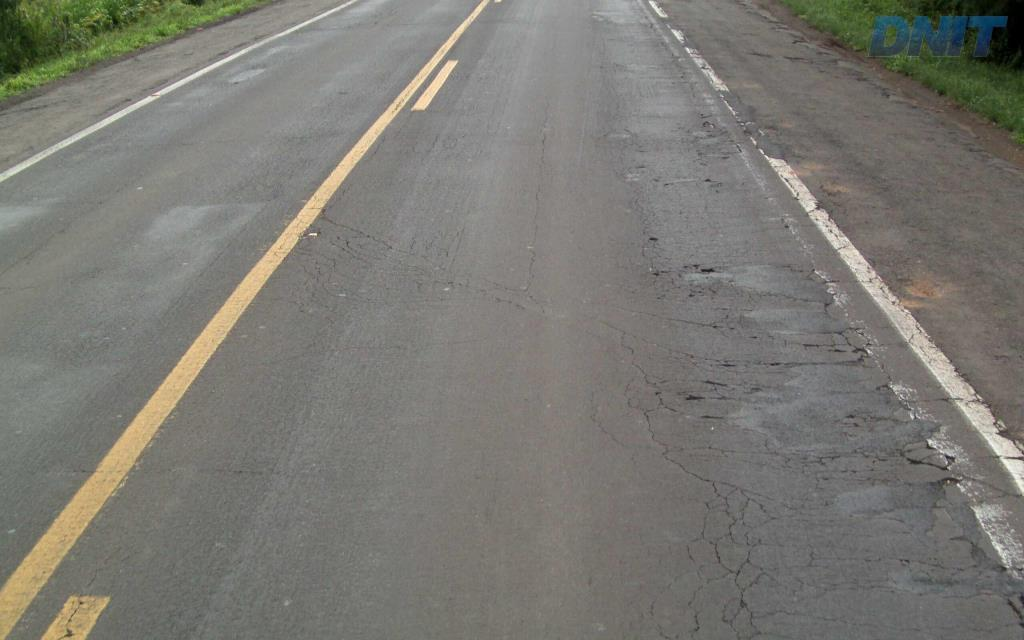crack: (911, 501, 1023, 639), (850, 427, 966, 514), (708, 536, 790, 639)
